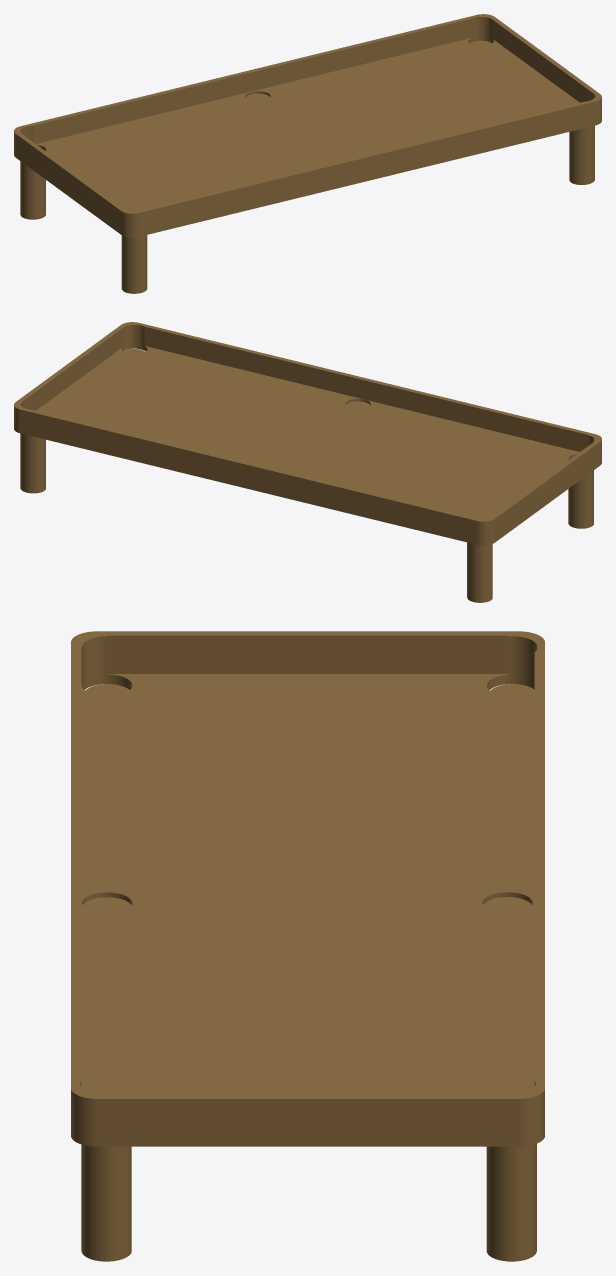
The model's file is table.glb.
3 views of the same model, one above another, from view 1: azimuth 30°, elevation 25°; view 2: azimuth 150°, elevation 25°; view 3: azimuth 270°, elevation 25° (orthographic). The views are drawn at different scales.
Parts seen in each view (by area): view 1: Mesh_Mesh_head_geo.001_lambert2SG.001; view 2: Mesh_Mesh_head_geo.001_lambert2SG.001; view 3: Mesh_Mesh_head_geo.001_lambert2SG.001.
Boxes of the visible parts, <box> form: Mesh_Mesh_head_geo.001_lambert2SG.001: <box>14,14,601,293</box>; Mesh_Mesh_head_geo.001_lambert2SG.001: <box>14,322,601,602</box>; Mesh_Mesh_head_geo.001_lambert2SG.001: <box>71,631,544,1261</box>.
Size of the model in its own units: 0.21 by 0.035 by 0.09.
